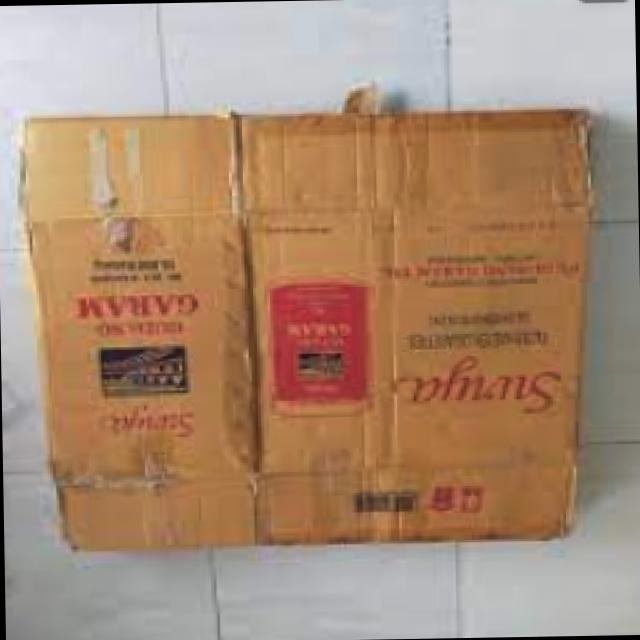Kardus: (16, 90, 605, 556)
